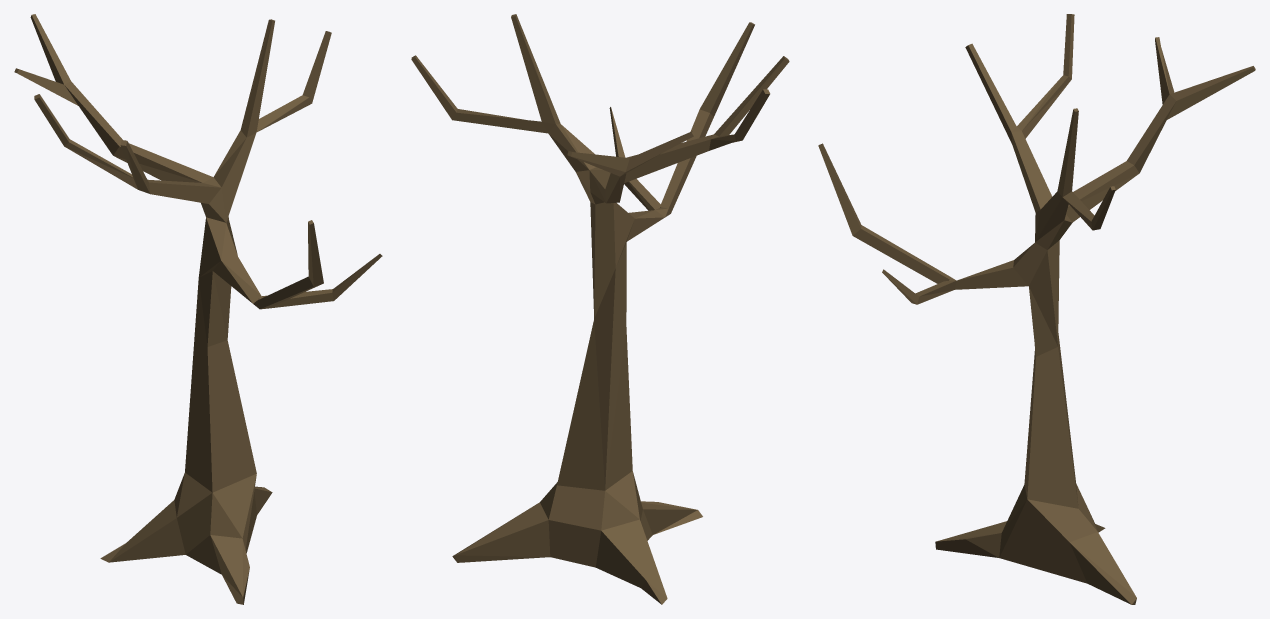
Rendered from Tree_Dry_B_01.fbx.
The picture shows the model from 3 angles, left to right: view 1: azimuth 30°, elevation 25°; view 2: azimuth 150°, elevation 25°; view 3: azimuth 270°, elevation 25°; orthographic projection. The views are drawn at different scales.
Visible parts, largest first — view 1: Tree_Dry_B_01.001; view 2: Tree_Dry_B_01.001; view 3: Tree_Dry_B_01.001.
Boxes of the visible parts, box(x1,y1,x2,y2) form: Tree_Dry_B_01.001: box(14, 14, 382, 604); Tree_Dry_B_01.001: box(411, 14, 789, 604); Tree_Dry_B_01.001: box(818, 14, 1255, 604).
Bounding box in the file's own units: 300 × 460 × 370.
